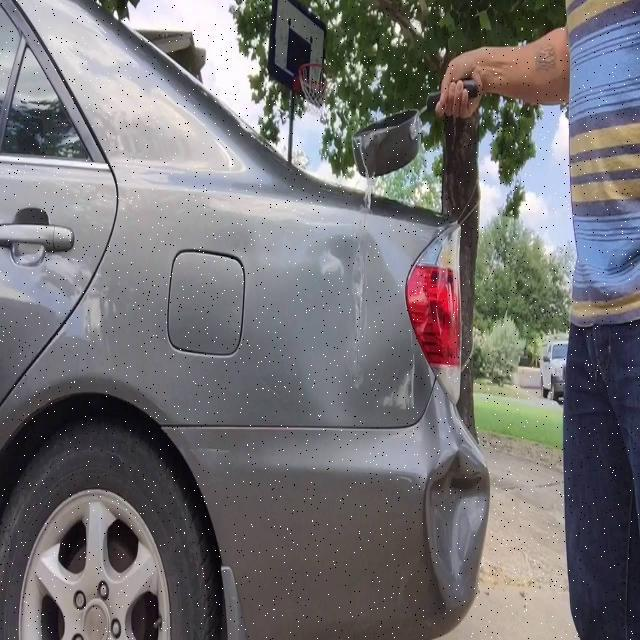rear-bumper-dent: (211, 410, 508, 640)
